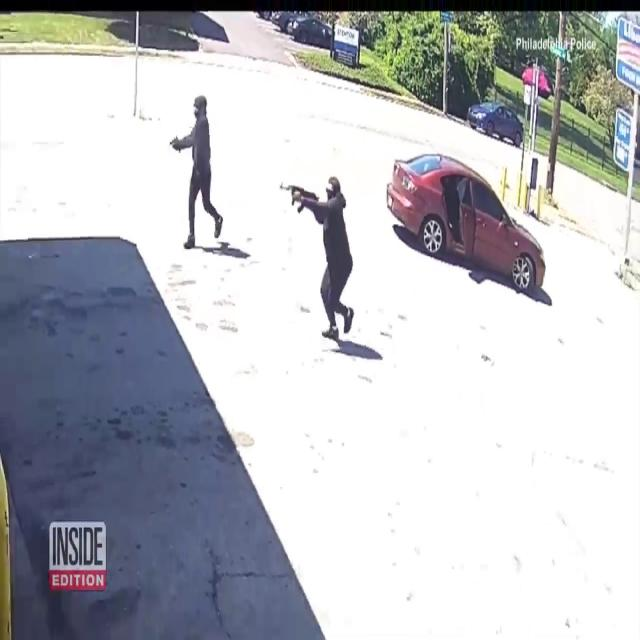penembakan: (279, 164, 360, 346), (168, 90, 228, 257)
